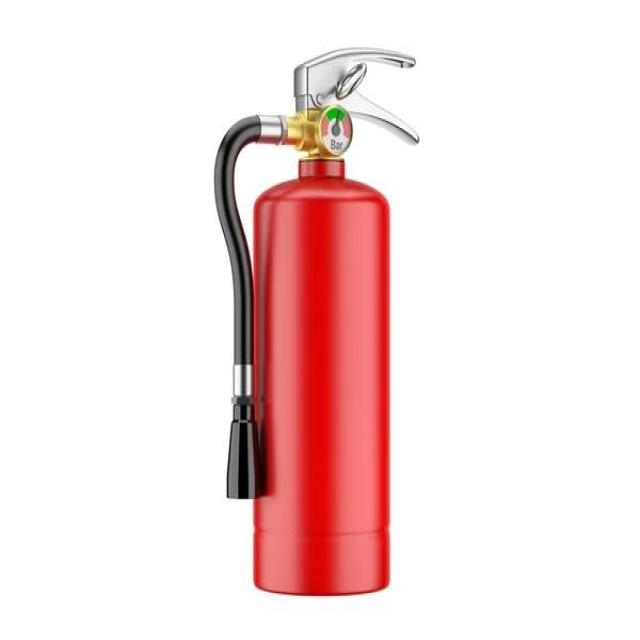fire_extinguisher: (207, 43, 423, 603)
